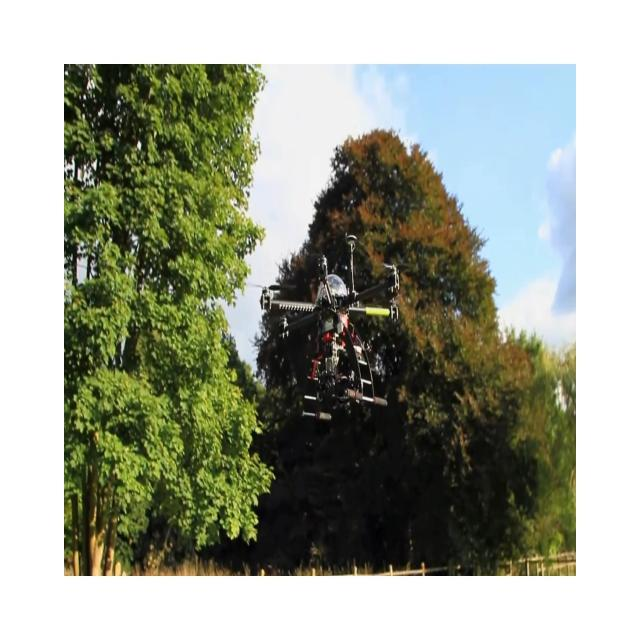drone: (246, 232, 408, 422)
